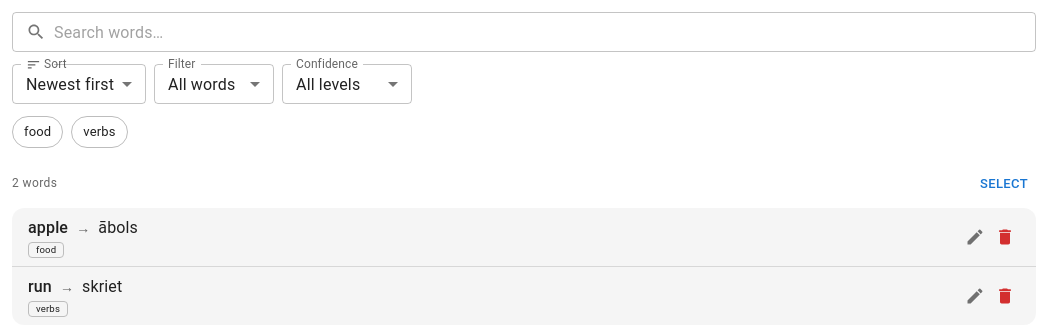
WordList › should filter by tag when a tag chip is clicked
// Click the 'food' tag chip
Click the button "food": [38, 132] box [12, 116, 63, 148]
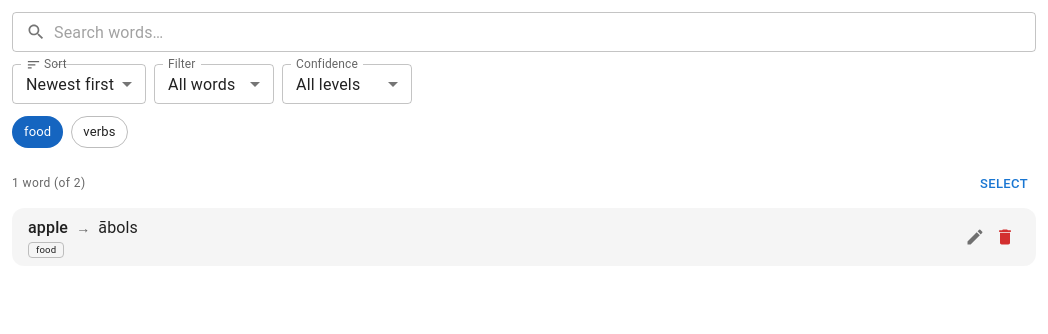
Check: the text "apple" is shown, box [28, 216, 68, 240]
Check: the text "run" is gone
